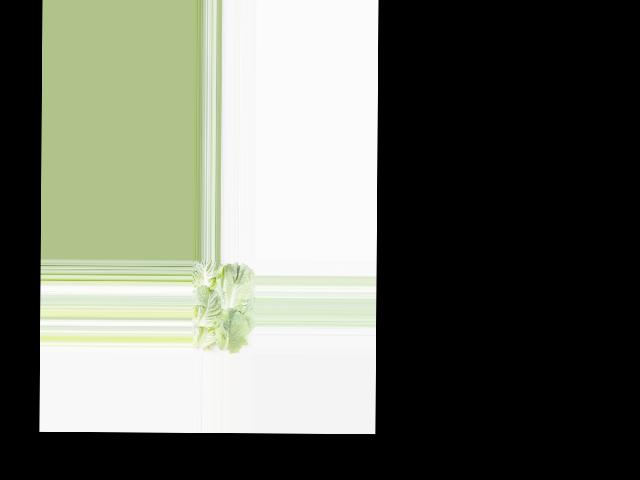lettuce: (191, 262, 253, 351)
